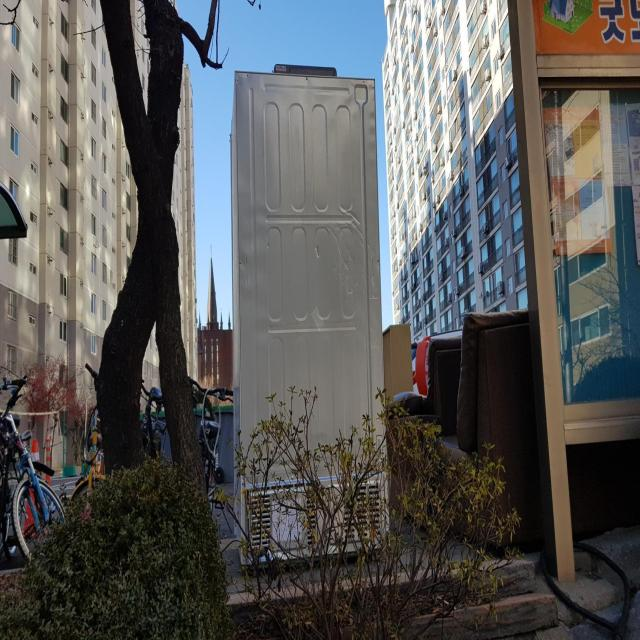refrigerator: (229, 63, 392, 575)
